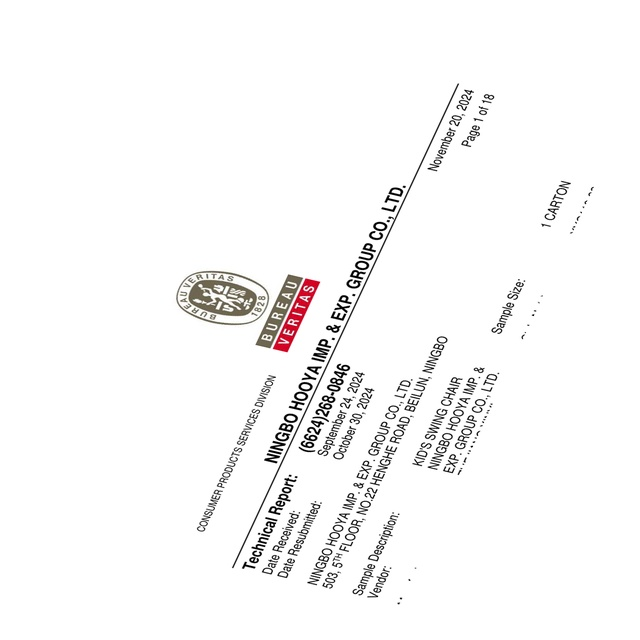bureau_veritas: (173, 263, 323, 353)
